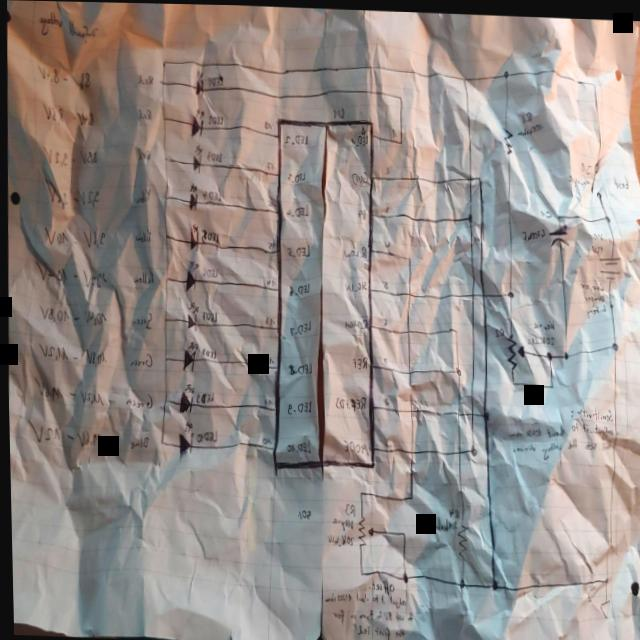capacitor: (546, 218, 568, 244)
crossover: (403, 365, 411, 373), (477, 287, 485, 295), (452, 406, 458, 415), (404, 286, 410, 295), (467, 287, 473, 296), (465, 171, 471, 179), (406, 445, 412, 453), (454, 444, 460, 452), (405, 404, 411, 412), (403, 324, 409, 332), (466, 406, 472, 414)
diode: (174, 418, 192, 452), (179, 337, 197, 370), (175, 379, 192, 413), (181, 257, 198, 291), (183, 298, 198, 330), (188, 105, 204, 135), (186, 179, 197, 209), (186, 220, 197, 250), (190, 142, 201, 170), (193, 66, 203, 95)
ground: (596, 594, 608, 616)
junction: (478, 405, 488, 418), (466, 440, 475, 454), (542, 346, 551, 358), (454, 575, 463, 586), (398, 569, 406, 580), (487, 577, 495, 588), (507, 374, 515, 385), (452, 363, 460, 374), (501, 65, 509, 75), (609, 337, 617, 347), (396, 90, 404, 100), (502, 287, 512, 295), (560, 347, 567, 357), (546, 377, 553, 387), (602, 210, 609, 219), (599, 572, 606, 581), (475, 170, 481, 180), (397, 134, 403, 143), (405, 489, 411, 498), (466, 210, 472, 219), (404, 251, 410, 260), (553, 210, 560, 217), (160, 191, 167, 198), (590, 76, 596, 84), (356, 566, 362, 574), (461, 71, 467, 79), (162, 272, 168, 280), (162, 230, 168, 237), (160, 112, 165, 120), (161, 394, 166, 402), (162, 152, 167, 160), (158, 76, 163, 84), (160, 56, 166, 62), (356, 486, 361, 493), (161, 353, 166, 360), (161, 314, 166, 321), (399, 527, 404, 533), (451, 324, 456, 330), (158, 437, 162, 443)
resistor: (502, 331, 523, 368), (452, 519, 468, 558), (353, 512, 371, 544), (501, 124, 514, 152)
source: (595, 251, 622, 280)
switch: (589, 156, 602, 194)
text: (508, 430, 608, 459), (23, 416, 102, 449), (505, 415, 611, 438), (32, 258, 105, 287), (32, 375, 102, 405), (36, 8, 99, 41), (41, 175, 100, 210), (328, 603, 410, 623), (36, 340, 104, 364), (36, 302, 105, 325), (35, 62, 90, 89), (42, 224, 105, 247), (321, 588, 403, 605), (40, 99, 93, 125), (40, 143, 97, 166), (567, 397, 611, 419), (353, 620, 401, 640), (331, 391, 364, 410), (514, 117, 543, 134), (122, 390, 151, 407), (324, 529, 352, 545), (426, 512, 454, 528), (519, 221, 545, 238), (283, 396, 310, 412), (132, 266, 156, 284), (283, 434, 308, 451), (526, 328, 554, 343), (340, 436, 366, 452), (287, 316, 310, 334), (364, 576, 391, 591), (128, 350, 151, 367), (284, 240, 308, 256), (341, 241, 365, 256), (129, 311, 150, 328), (286, 279, 309, 294), (566, 169, 589, 184), (285, 359, 309, 373), (328, 513, 350, 528), (131, 185, 149, 203), (199, 225, 218, 242), (132, 225, 151, 242), (584, 299, 604, 315), (283, 130, 307, 143), (530, 316, 553, 329), (193, 427, 214, 441), (342, 277, 366, 289), (610, 169, 628, 185), (285, 201, 307, 214), (127, 433, 146, 448), (192, 388, 212, 402), (342, 314, 365, 326), (577, 276, 602, 287), (581, 289, 603, 301), (201, 186, 221, 199), (350, 167, 367, 182), (135, 71, 153, 85), (348, 131, 367, 144), (285, 167, 304, 180), (135, 105, 151, 120), (350, 352, 366, 367), (135, 145, 150, 160), (199, 307, 215, 321), (206, 109, 222, 123), (200, 263, 217, 276), (206, 71, 222, 84), (341, 498, 353, 515), (330, 101, 344, 115), (205, 147, 220, 160), (491, 320, 504, 335), (199, 344, 214, 356), (579, 157, 591, 171), (519, 106, 531, 120), (445, 502, 457, 515), (295, 505, 309, 516), (354, 205, 365, 217), (261, 274, 274, 284), (538, 204, 551, 214), (590, 240, 602, 250), (262, 313, 273, 323), (591, 227, 602, 237), (262, 117, 272, 127), (265, 158, 275, 168), (260, 353, 272, 361), (260, 395, 270, 404), (265, 238, 275, 247), (259, 434, 269, 442), (265, 197, 274, 205), (382, 434, 389, 444), (389, 125, 396, 135), (379, 314, 386, 323), (380, 276, 386, 286), (382, 202, 389, 210), (382, 238, 389, 246), (380, 394, 387, 402), (383, 163, 389, 172), (380, 354, 386, 362)
